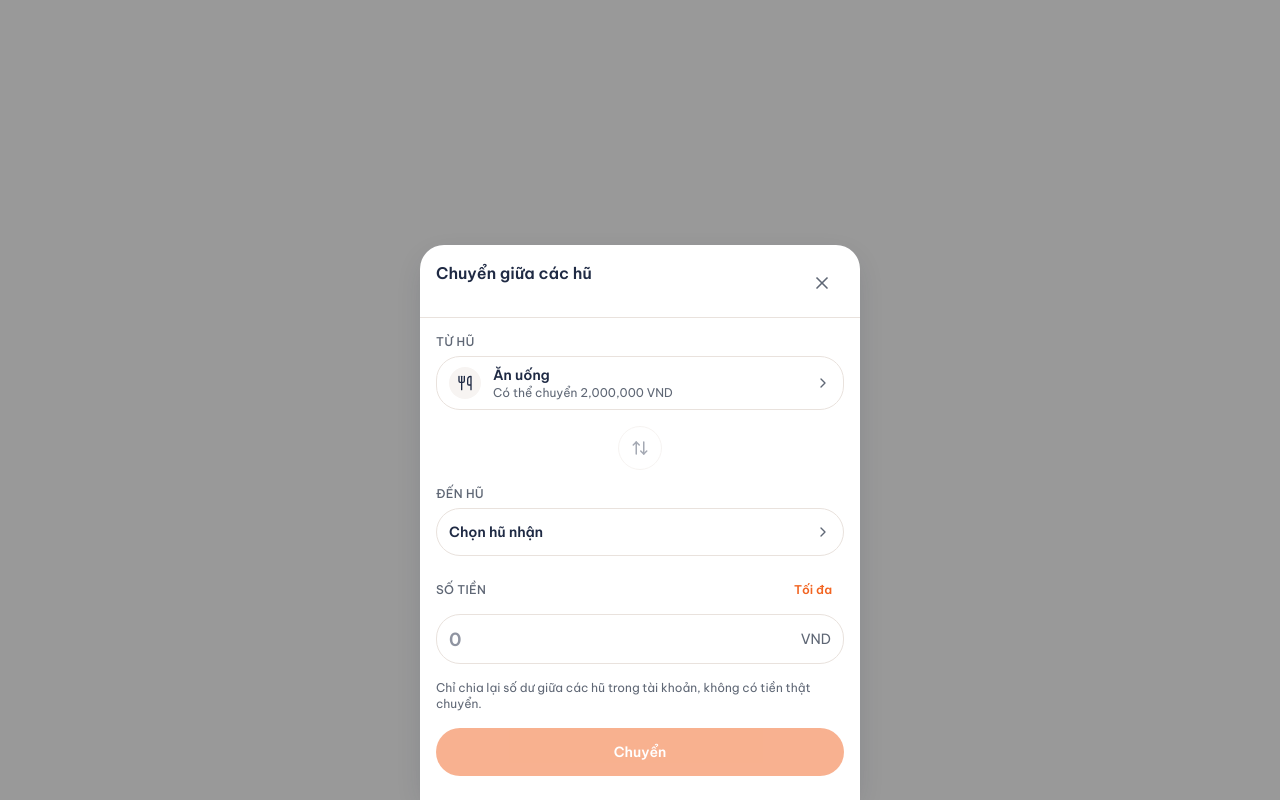
Test: JarTransferSheet — endpoint selection › swap flips from/to and keeps the amount
Click the button "Chọn hũ nhận" at coordinates (496, 532), box [436,508,844,556]
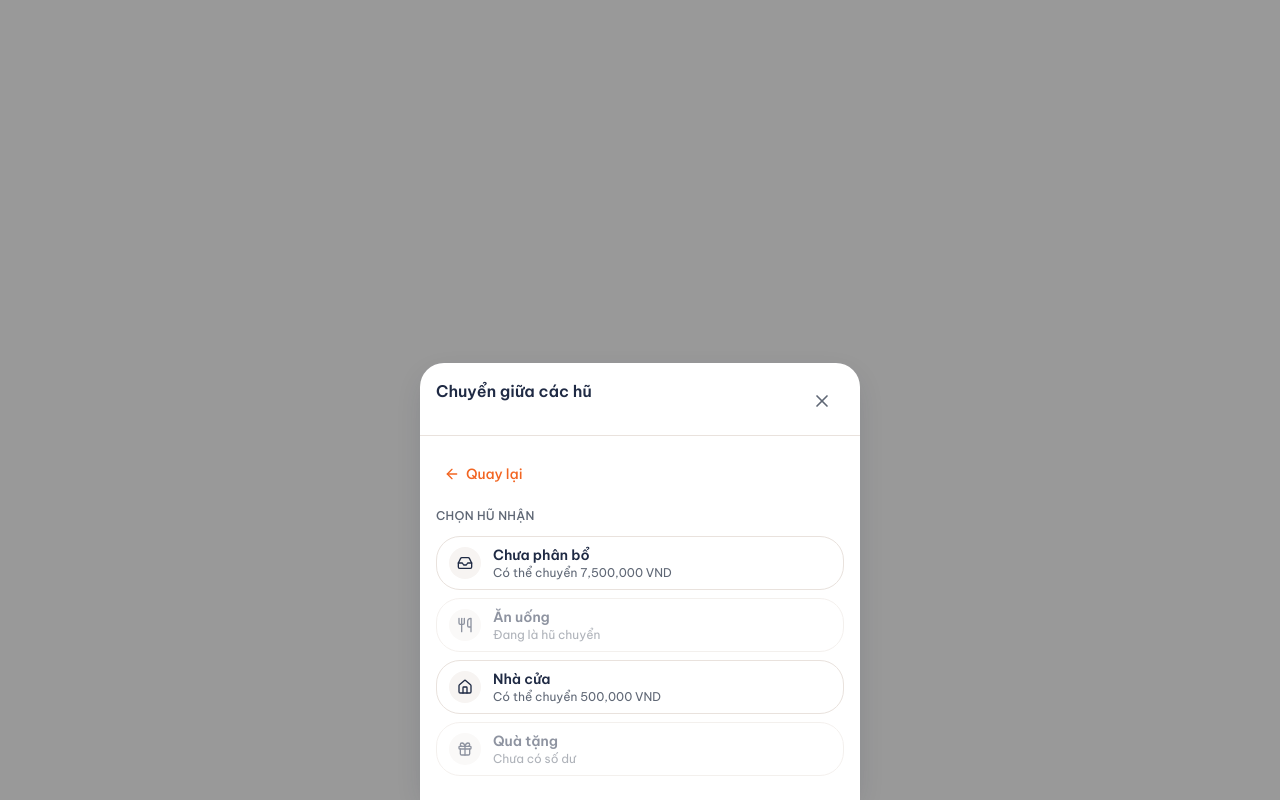
Click the button "Nhà cửa Có thể chuyển 500,000 VND" at coordinates (640, 687), box [436,660,844,714]
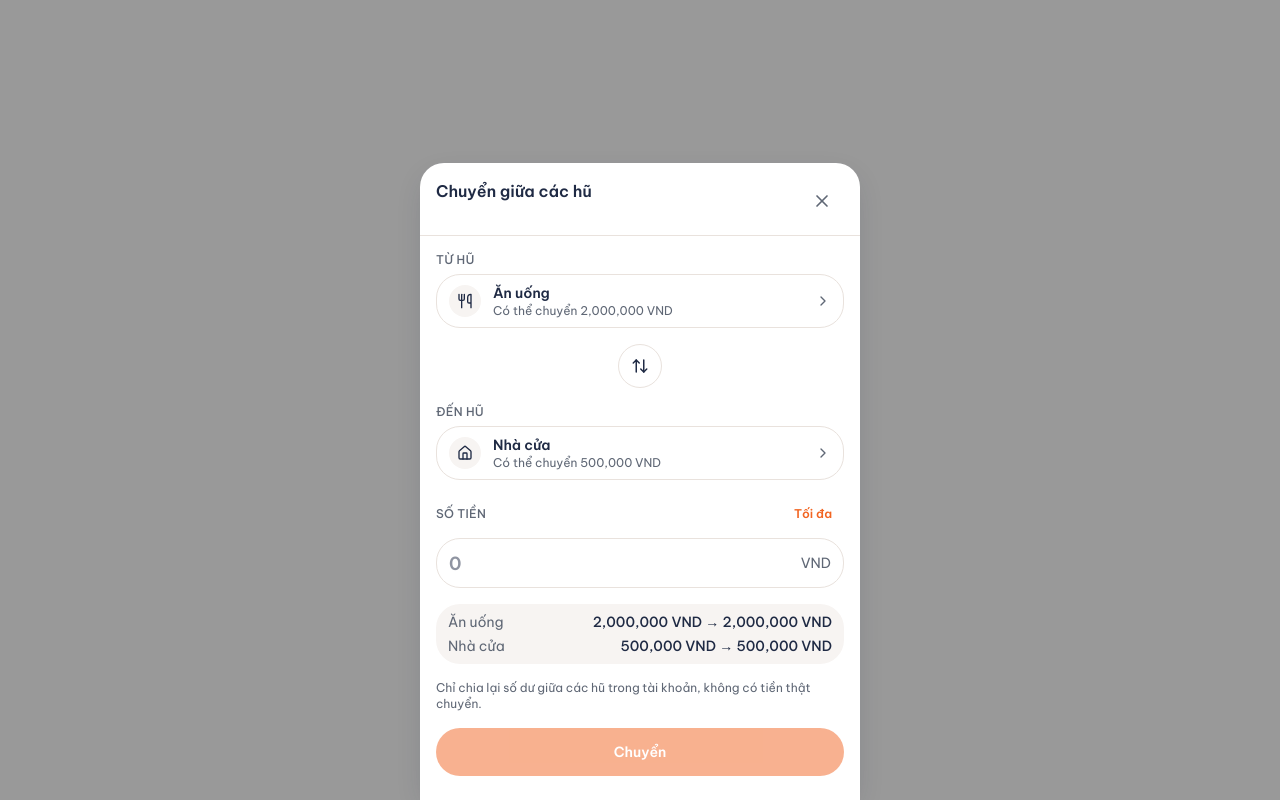
Type "300000" into the field labelled "Số tiền" at coordinates (625, 563), box [449,539,801,587]
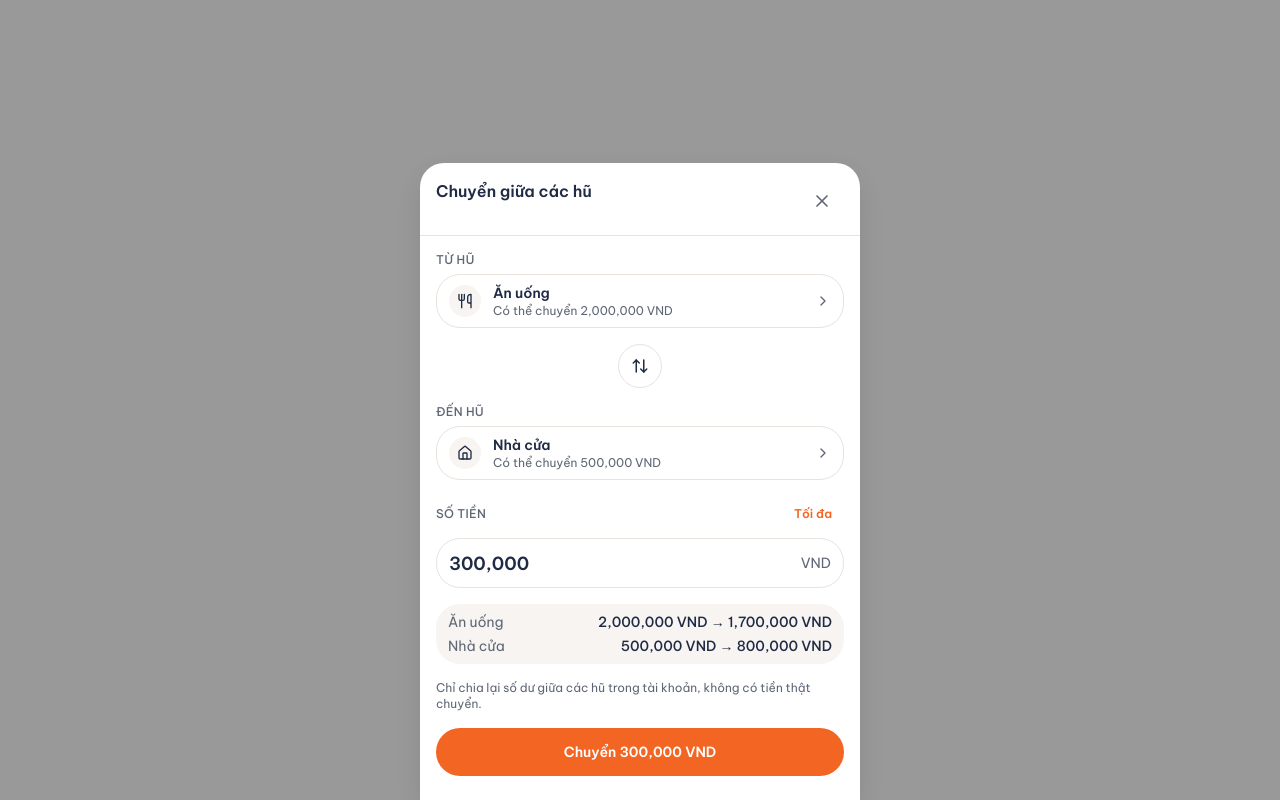
Click the button named "Đảo chiều chuyển" at coordinates (640, 366), box [618,344,662,388]
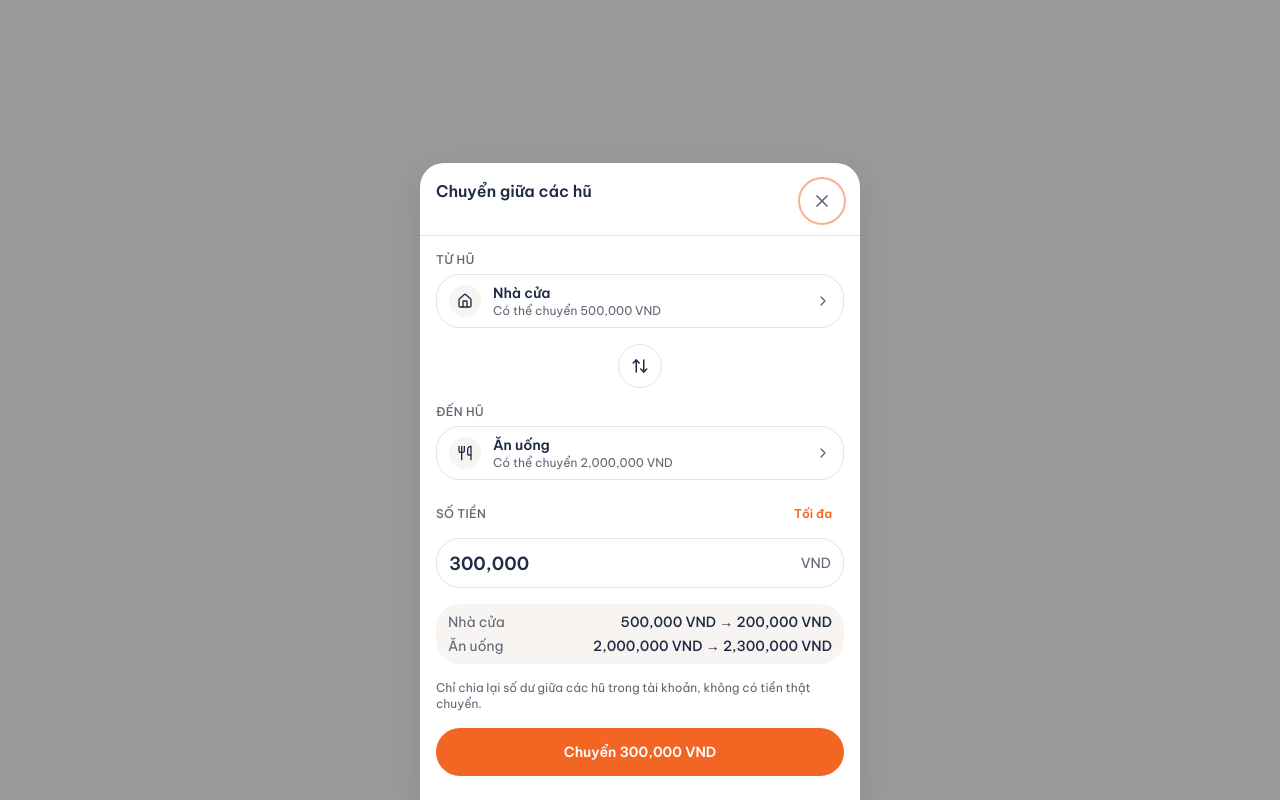
Check: the field labelled "Số tiền" holds "300,000", box [449,539,801,587]
Check: the button with aria-label "Hũ chuyển: Nhà cửa — đổi" is shown, box [436,274,844,328]
Check: the button with aria-label "Hũ nhận: Ăn uống — đổi" is shown, box [436,426,844,480]
